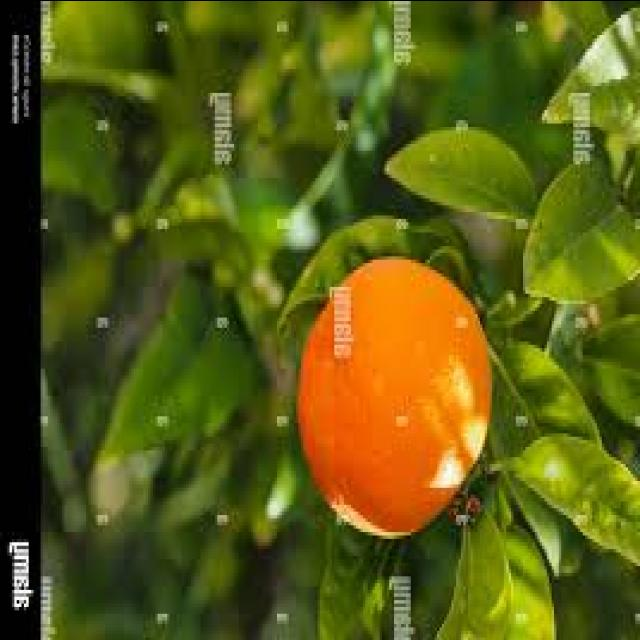orange: (313, 242, 499, 550)
